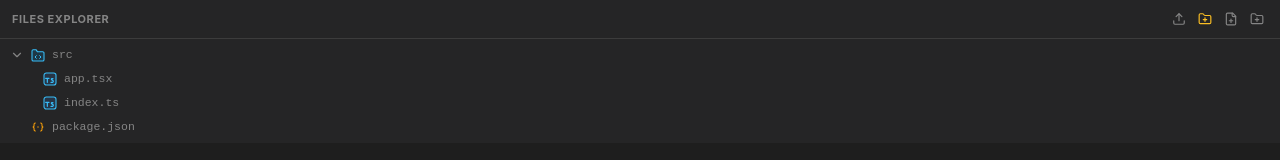
Test case: FileTree › Folder Expand/Collapse › should toggle folder open state on click
The width and height of the screenshot is (1280, 160).
# Click on src folder to close it
Step 1. Click the text "src" → coordinates (62, 55), box [52,47,73,63]
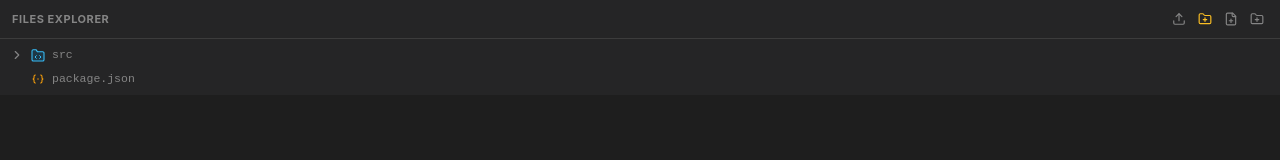
Result: the text "index.ts" is gone
Result: the text "app.tsx" is gone
